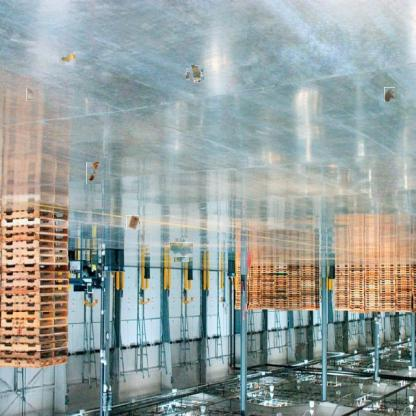dirty: (86, 162, 101, 184), (59, 50, 75, 66), (188, 67, 202, 81), (126, 216, 139, 229), (26, 87, 35, 101)
liquid: (172, 240, 191, 260), (384, 87, 395, 102)
